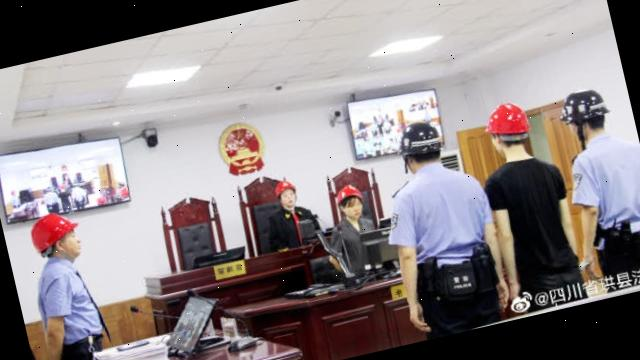helmet: (23, 207, 86, 254), (554, 83, 612, 130), (394, 116, 446, 163), (479, 98, 532, 144), (272, 176, 302, 204), (335, 182, 363, 202)
no_wear: (487, 159, 571, 261), (31, 256, 108, 350), (334, 215, 383, 272), (270, 205, 318, 249)
